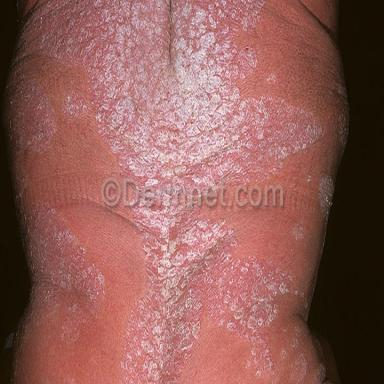Psoriasis: (40, 0, 326, 185), (119, 210, 294, 382), (24, 200, 106, 347), (10, 79, 59, 155), (318, 175, 335, 225), (339, 96, 349, 153)
